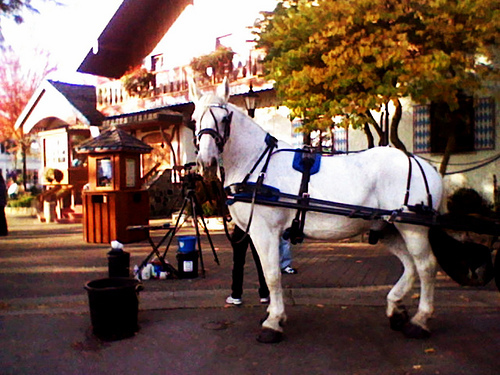horse: (185, 74, 461, 345)
